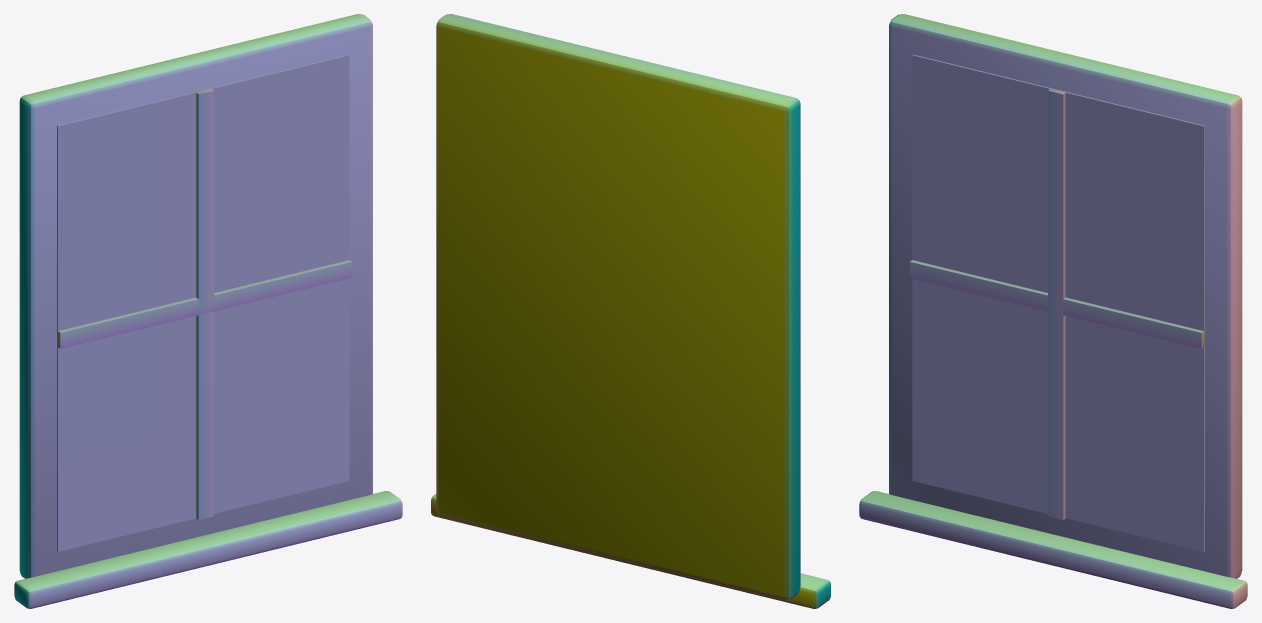
The model's file is parlour_window.glb.
3 views of the same model, side by side, from view 1: azimuth 30°, elevation 25°; view 2: azimuth 150°, elevation 25°; view 3: azimuth 330°, elevation 25° (orthographic). The views are drawn at different scales.
Parts seen in each view (by area): view 1: parlour_window; view 2: parlour_window; view 3: parlour_window.
Boxes of the visible parts, x1,y1,x2,y2 form: parlour_window: [14, 14, 402, 608]; parlour_window: [431, 14, 830, 608]; parlour_window: [859, 14, 1247, 608].
Size of the model in its own units: 0.98 by 1.23 by 0.12.
